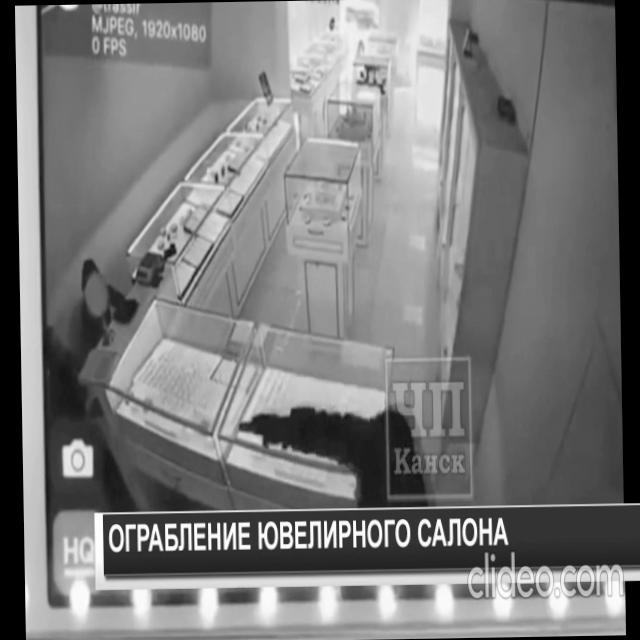gun: (238, 412, 262, 436)
person with a gun: (238, 402, 437, 509)
